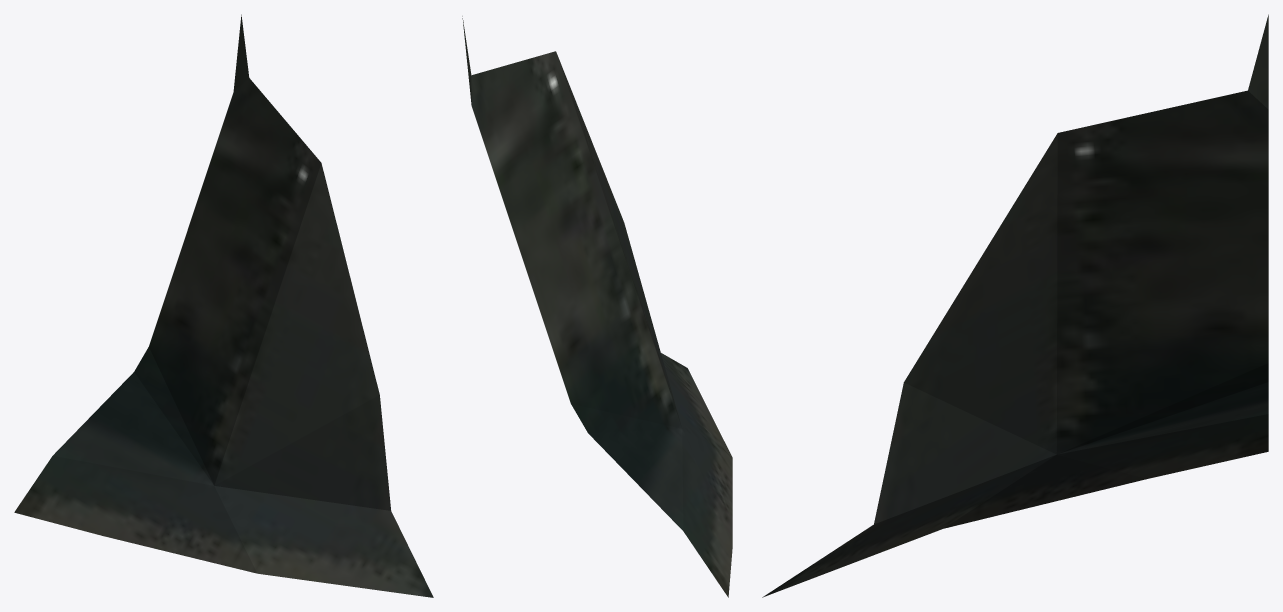
3 views of the same model, side by side, from view 1: azimuth 30°, elevation 25°; view 2: azimuth 150°, elevation 25°; view 3: azimuth 270°, elevation 25° (orthographic). The views are drawn at different scales.
Size of the model in its own units: 0.3303 by 0.6151 by 0.4842.
Materials: 1 (1 with a texture image).
